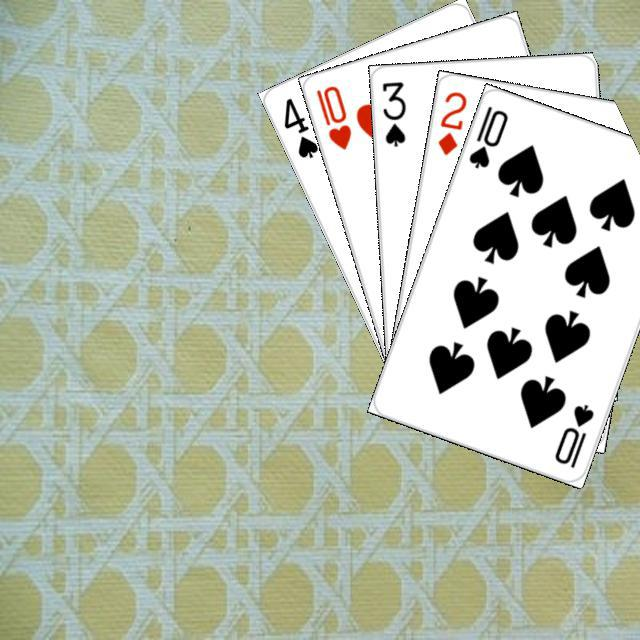10h: (311, 80, 353, 152)
10s: (549, 399, 596, 470), (463, 101, 510, 170)
2d: (432, 86, 468, 157)
3s: (377, 77, 407, 148)
4s: (278, 93, 320, 160)
